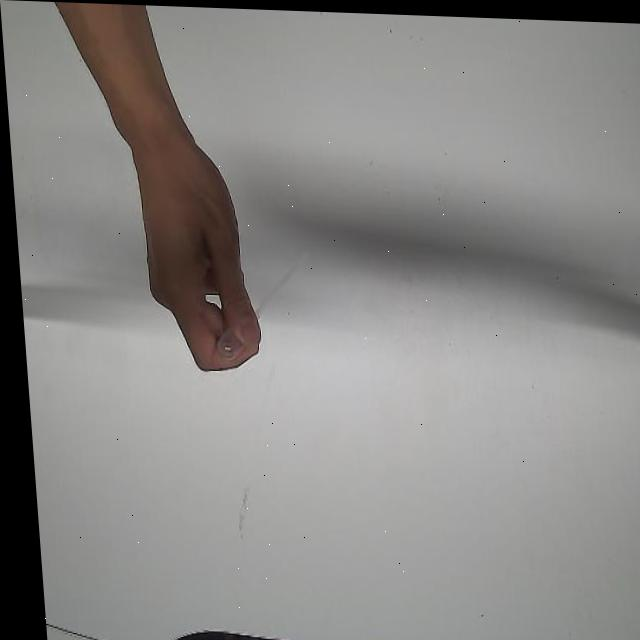Disposable Pasteur Pipette: (202, 237, 319, 365)
